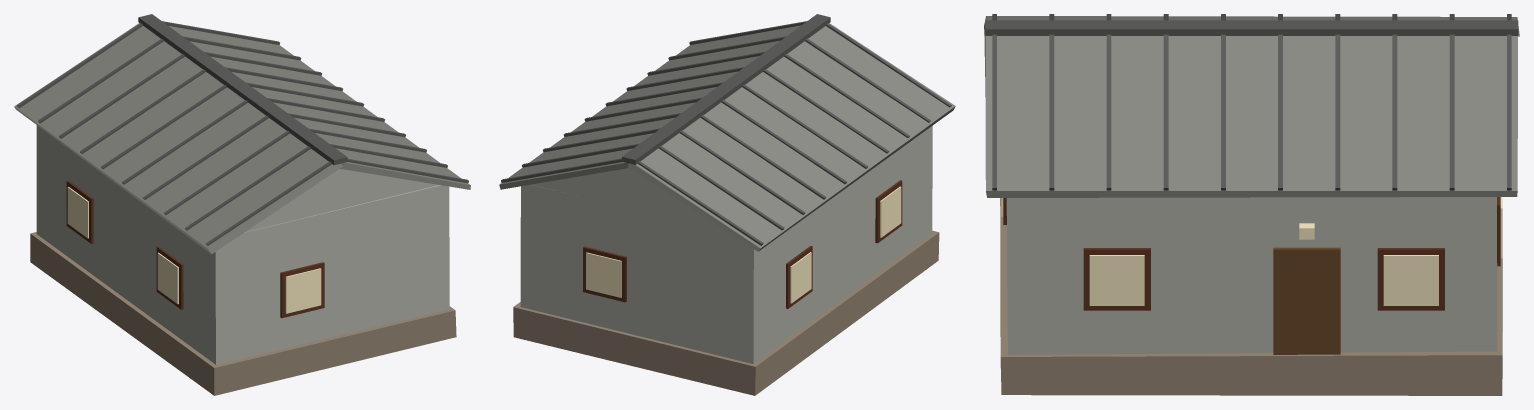
File: bowl_house_grey.glb
3 renders of one model, left to right at view 1: azimuth 30°, elevation 25°; view 2: azimuth 150°, elevation 25°; view 3: azimuth 270°, elevation 25°, orthographic. The views are drawn at different scales.
Visible parts, largest first — view 1: bowl_house_grey; view 2: bowl_house_grey; view 3: bowl_house_grey.
Part boxes in pixels (x1,y1,x2,y2): bowl_house_grey: [14, 14, 470, 395]; bowl_house_grey: [499, 14, 955, 395]; bowl_house_grey: [984, 14, 1519, 395].
Size of the model in its own units: 6.76 by 5.23 by 8.74.
